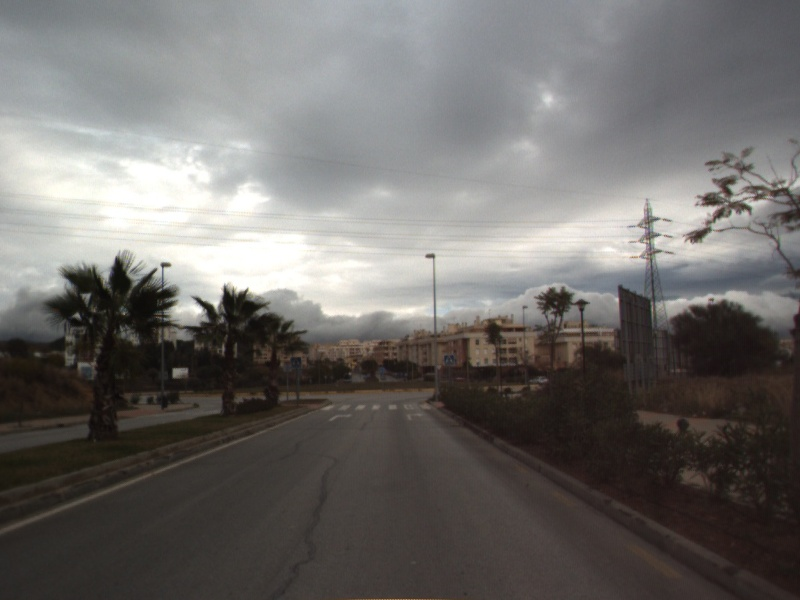RIGHT: (327, 411, 355, 423), (404, 410, 426, 422)
